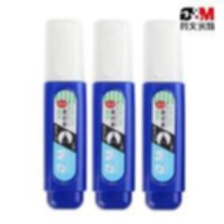correction_fluid: (40, 14, 88, 212), (90, 15, 137, 212), (140, 17, 187, 210)
